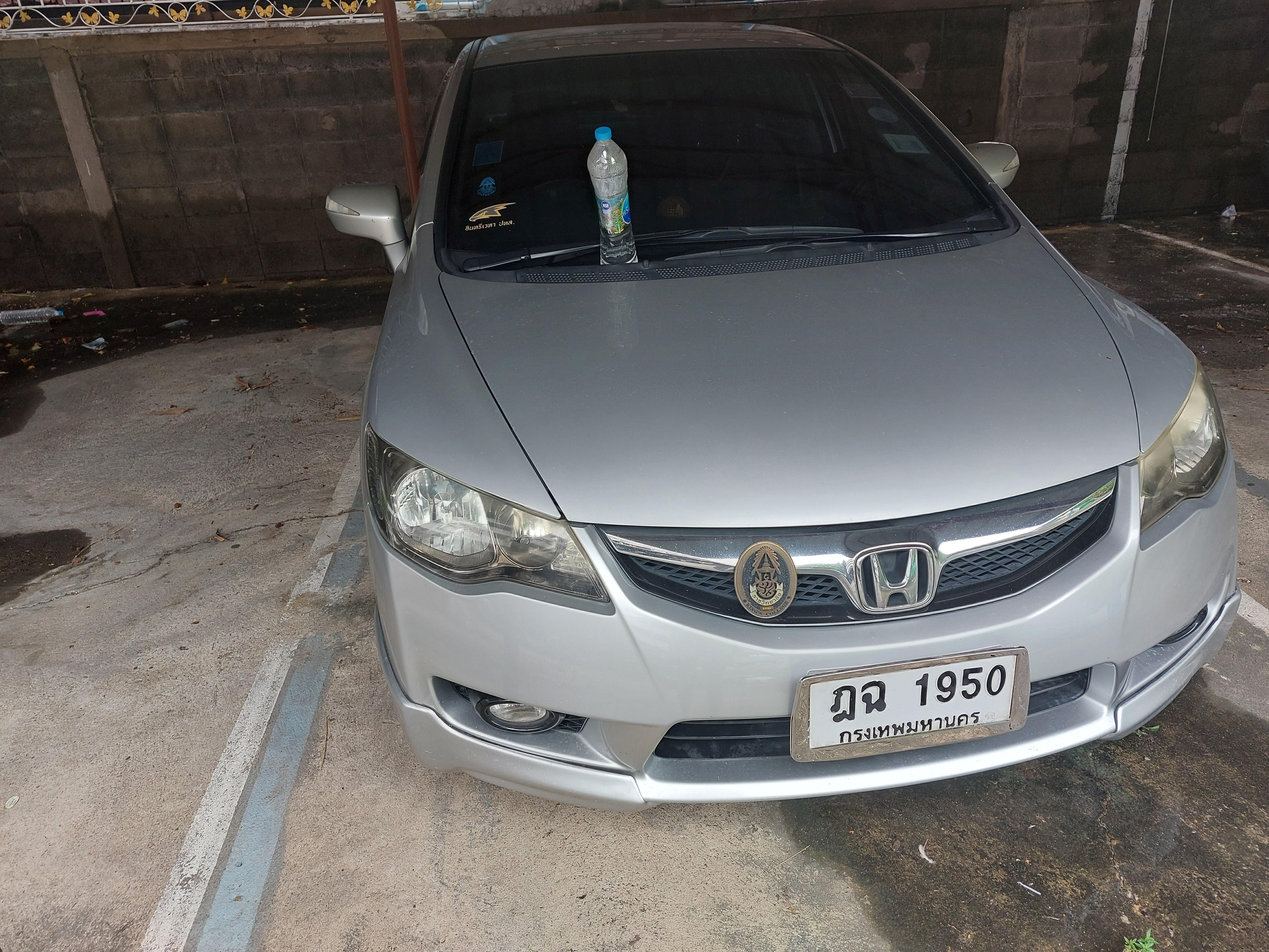license-plate: (784, 641, 1037, 772)
